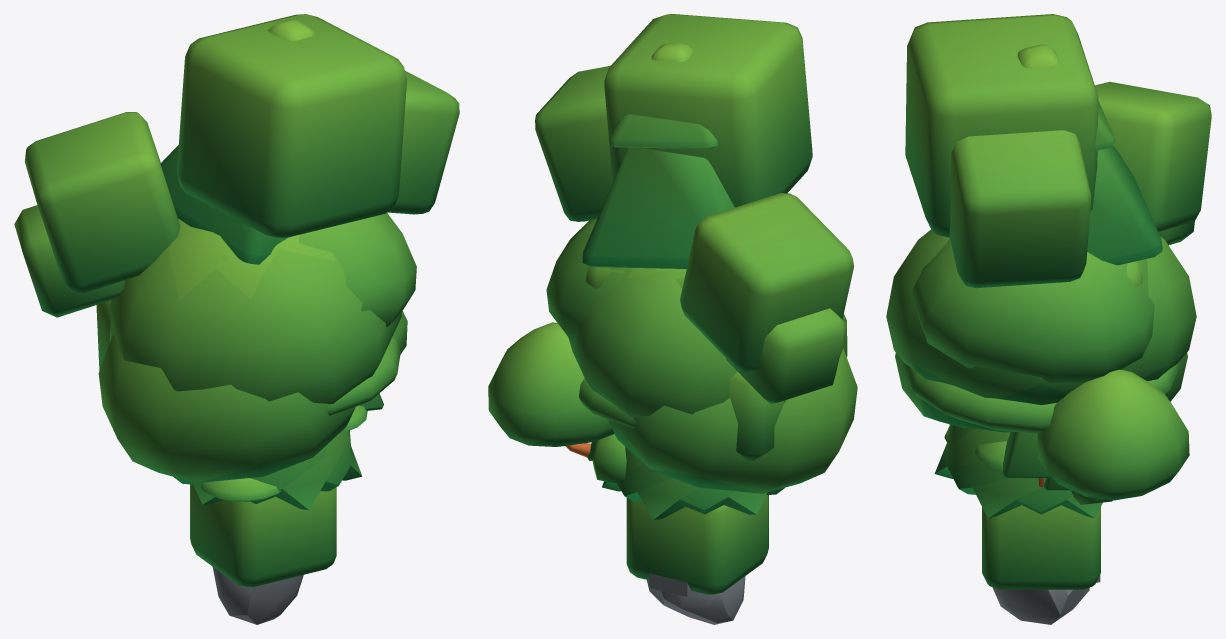
The model's file is nature.glb.
3 renders of one model, left to right at view 1: azimuth 30°, elevation 25°; view 2: azimuth 150°, elevation 25°; view 3: azimuth 270°, elevation 25°, orthographic. The views are drawn at different scales.
Parts seen in each view (by area): view 1: Tree_2_C_Color1, Tree_1_B_Color1, Tree_1_A_Color1, Bush_2_C_Color1, Tree_7_A_Color1, Tree_4_B_Color1, Tree_5_A_Color1, Tree_3_A_Color1, Rock_3_E_Color1, Tree_2_A_Color1; view 2: Tree_2_C_Color1, Tree_1_B_Color1, Tree_1_A_Color1, Tree_4_B_Color1, Bush_2_C_Color1, Tree_5_A_Color1, Tree_7_A_Color1, Tree_2_A_Color1, Rock_3_E_Color1, Tree_3_A_Color1, Rock_1_E_Color1; view 3: Tree_2_C_Color1, Tree_1_B_Color1, Tree_7_A_Color1, Bush_2_C_Color1, Tree_4_B_Color1, Tree_5_A_Color1, Tree_3_A_Color1, Rock_3_E_Color1, Tree_1_A_Color1.
Part boxes in pixels (box(x1,y1,x2,y2)): Tree_2_C_Color1: box(14, 14, 459, 317); Tree_1_B_Color1: box(109, 218, 407, 404); Tree_1_A_Color1: box(98, 334, 355, 482); Bush_2_C_Color1: box(190, 484, 336, 587); Tree_7_A_Color1: box(298, 213, 416, 327); Tree_4_B_Color1: box(160, 19, 383, 410); Tree_5_A_Color1: box(174, 429, 362, 509); Tree_3_A_Color1: box(201, 336, 400, 501); Rock_3_E_Color1: box(212, 567, 303, 624); Tree_2_A_Color1: box(96, 256, 230, 370); Tree_2_C_Color1: box(535, 14, 853, 403); Tree_1_B_Color1: box(488, 267, 847, 457); Tree_1_A_Color1: box(592, 349, 857, 493); Tree_4_B_Color1: box(582, 43, 734, 268); Bush_2_C_Color1: box(626, 495, 768, 594); Tree_5_A_Color1: box(602, 446, 784, 519); Tree_7_A_Color1: box(546, 219, 625, 344); Tree_2_A_Color1: box(585, 266, 784, 462); Rock_3_E_Color1: box(647, 576, 745, 624); Tree_3_A_Color1: box(579, 378, 636, 428); Rock_1_E_Color1: box(649, 573, 699, 596); Tree_2_C_Color1: box(905, 14, 1211, 288); Tree_1_B_Color1: box(886, 229, 1196, 500); Tree_7_A_Color1: box(910, 238, 1154, 382); Bush_2_C_Color1: box(982, 505, 1100, 589); Tree_4_B_Color1: box(1003, 44, 1162, 486); Tree_5_A_Color1: box(934, 424, 1102, 518); Tree_3_A_Color1: box(902, 363, 1180, 469); Rock_3_E_Color1: box(992, 587, 1089, 624); Tree_1_A_Color1: box(895, 352, 1187, 504).
Size of the model in its own units: 4.73 by 7.16 by 3.61.
Materials: 1 (1 with a texture image).
